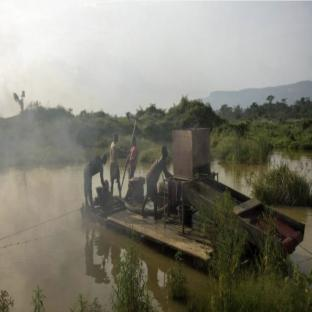ProcessingEquipment: (162, 128, 307, 261), (129, 177, 145, 204), (98, 187, 115, 208)
